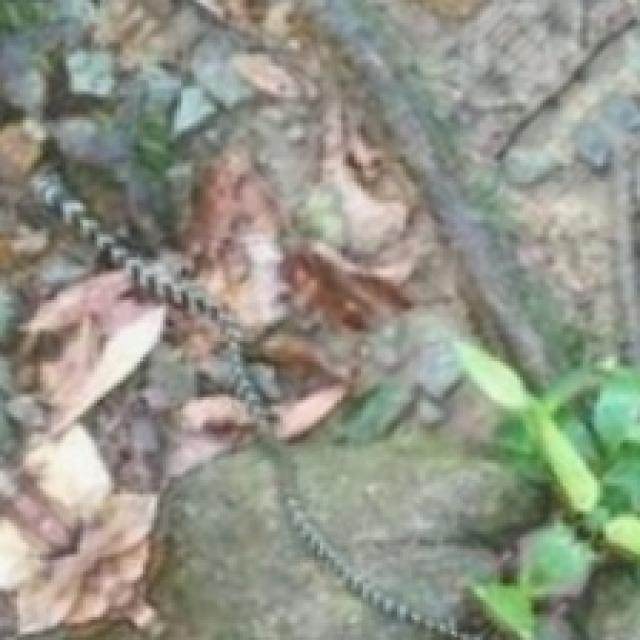king cobra: (0, 269, 260, 631), (197, 157, 274, 257), (280, 340, 357, 437), (331, 314, 377, 334), (269, 349, 300, 363)
